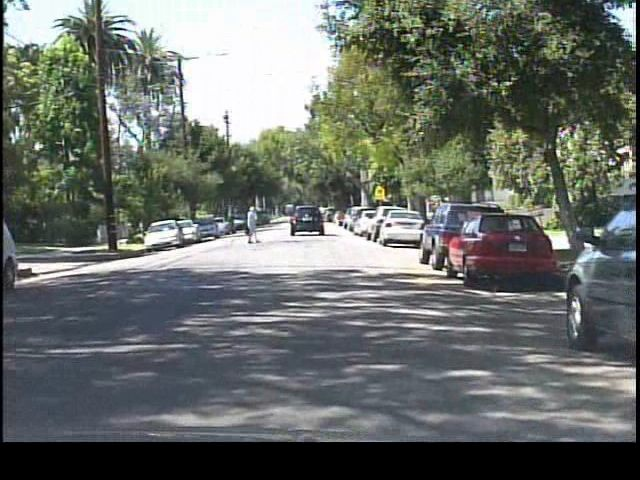person: (239, 201, 263, 246)
